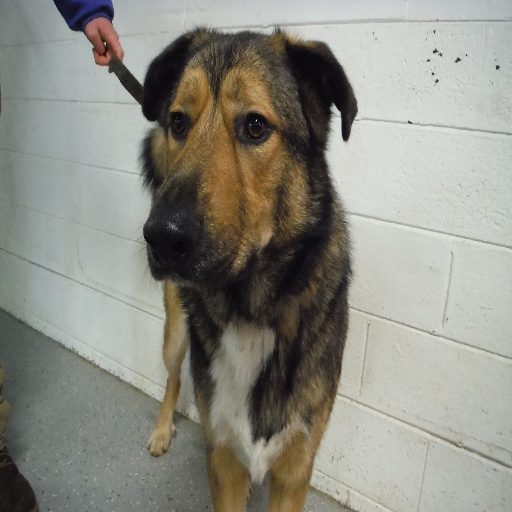hand: (70, 6, 121, 70)
